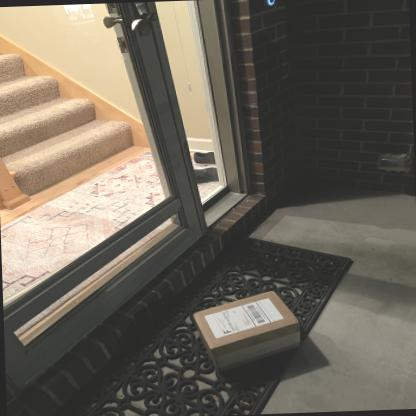box: (184, 287, 306, 361)
